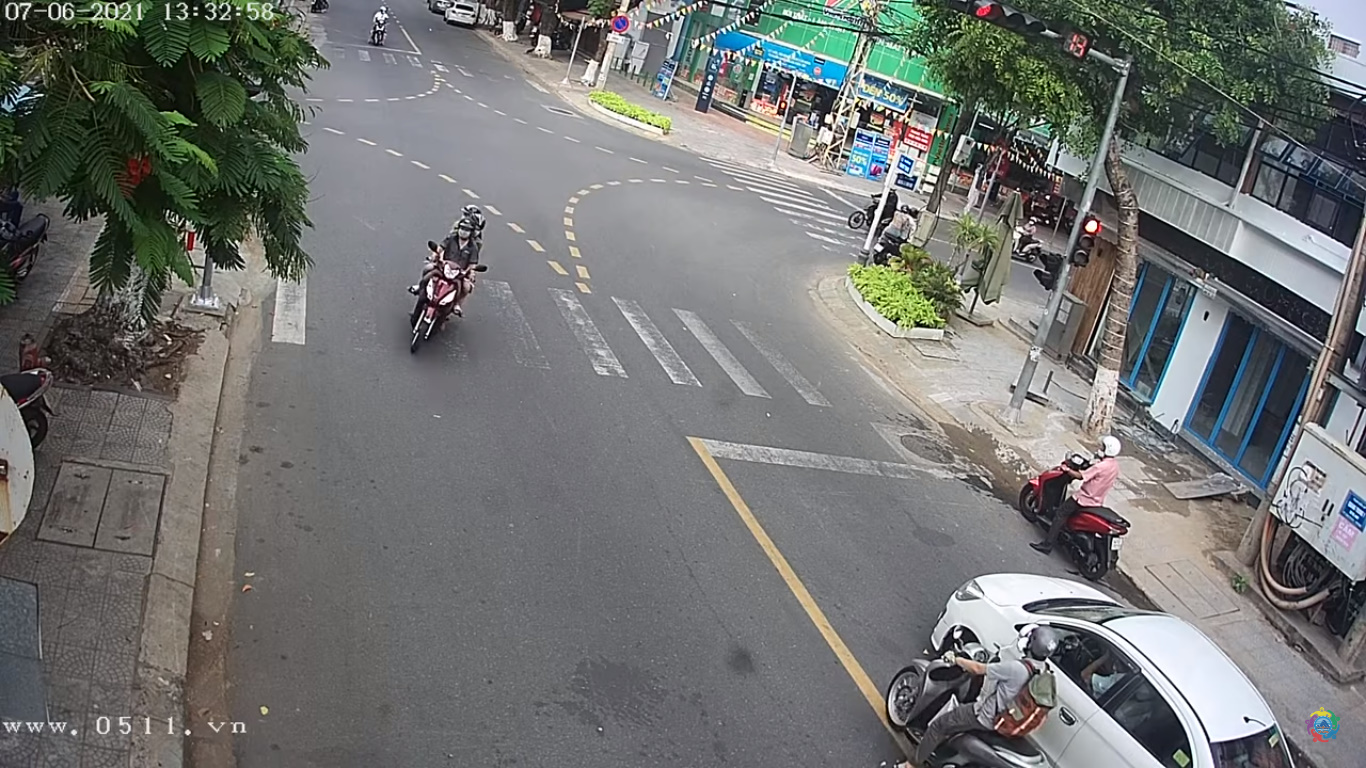motorbike: (414, 217, 474, 357)
